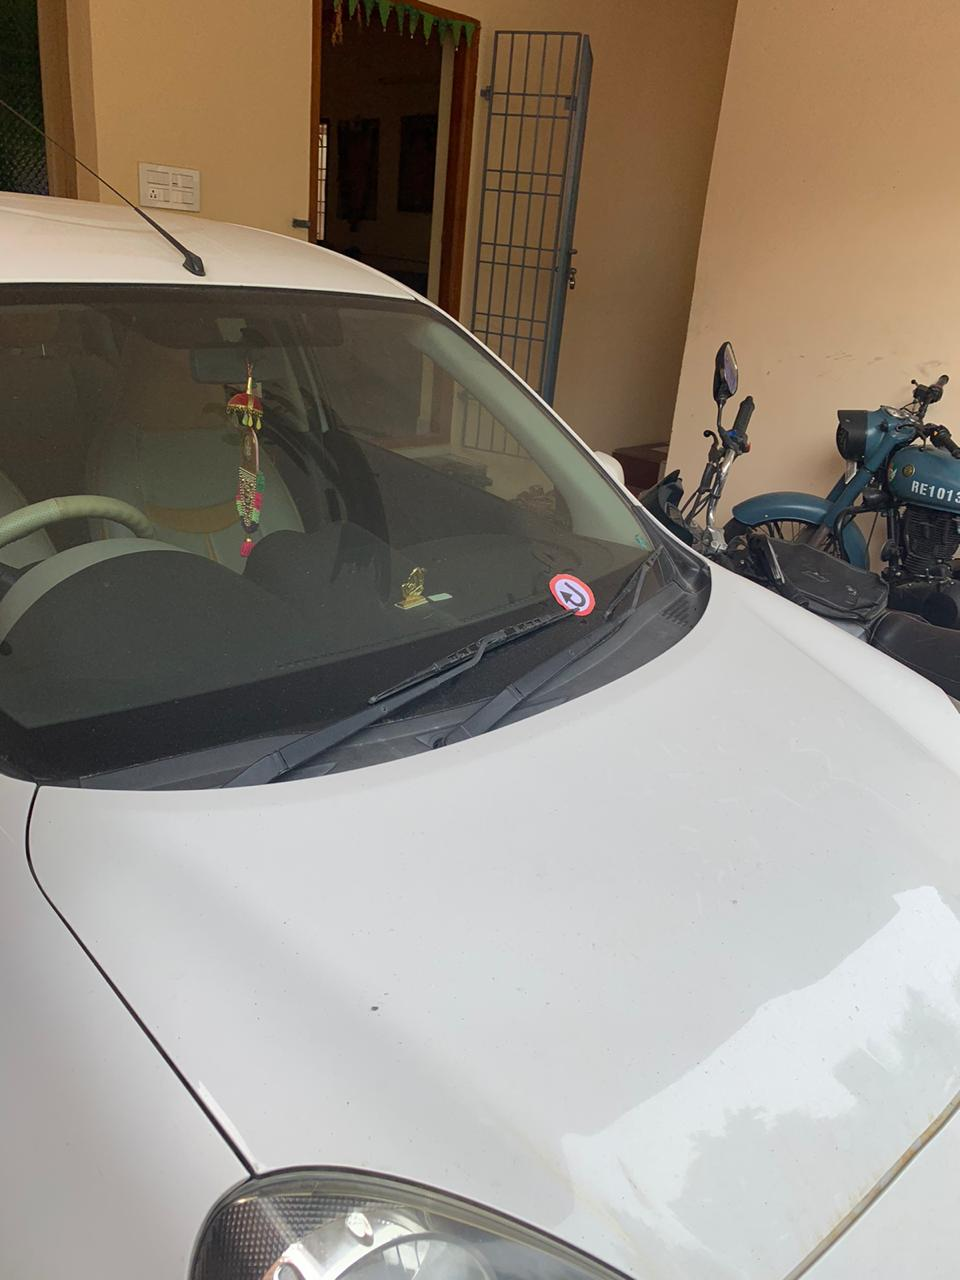U-TURN: (548, 578, 607, 619)
